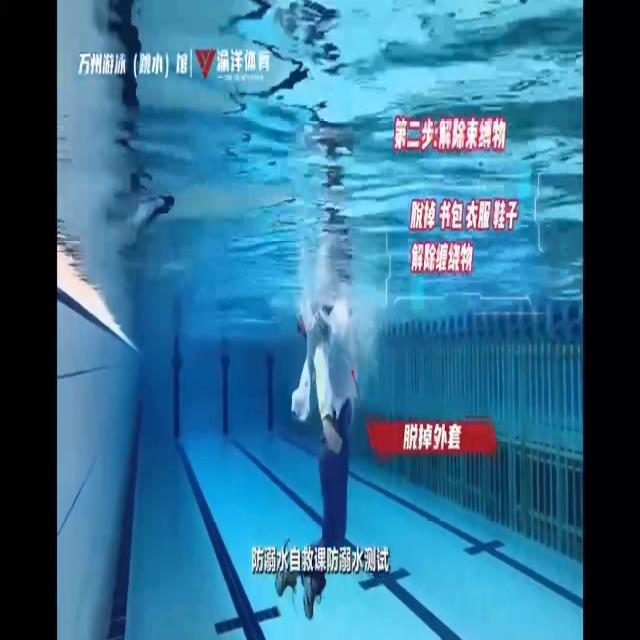Drowning: (276, 303, 358, 617)
